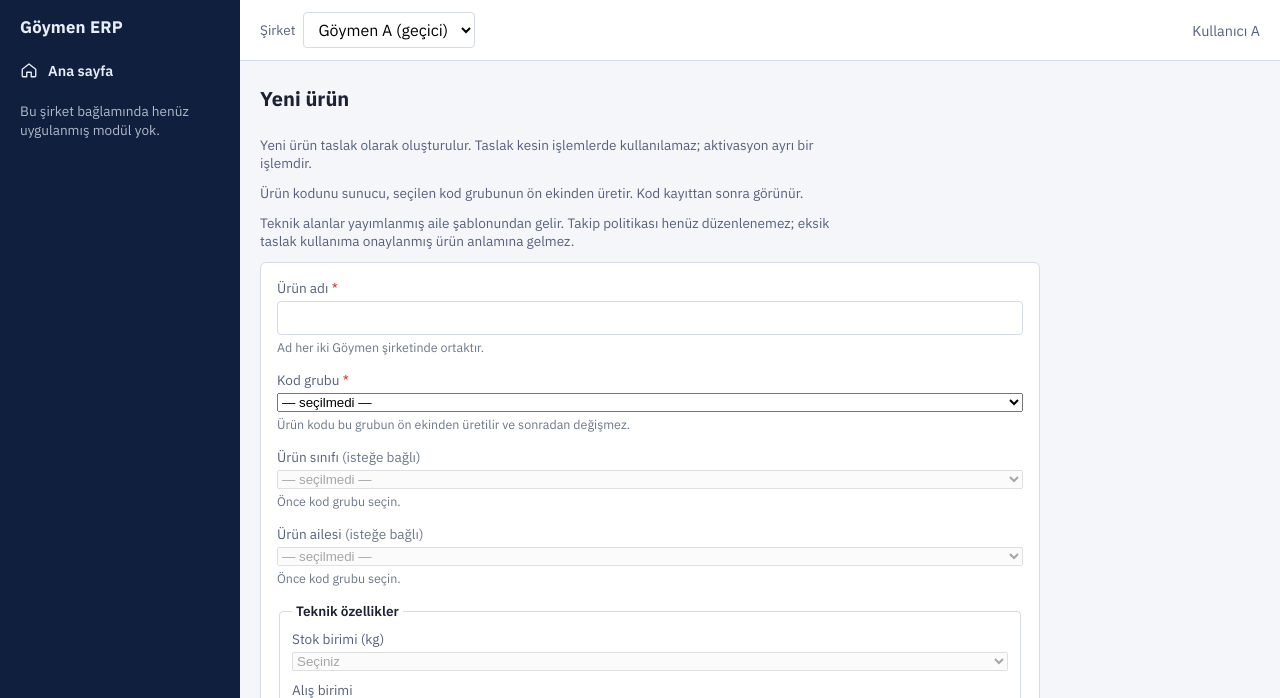
Test: validation › maps a server field code to Turkish and keeps the user input
This screenshot has width=1280, height=698.
Type "Siyah sac" into the field labelled "Ürün adı *" at (650, 318), box [277,301,1023,335]
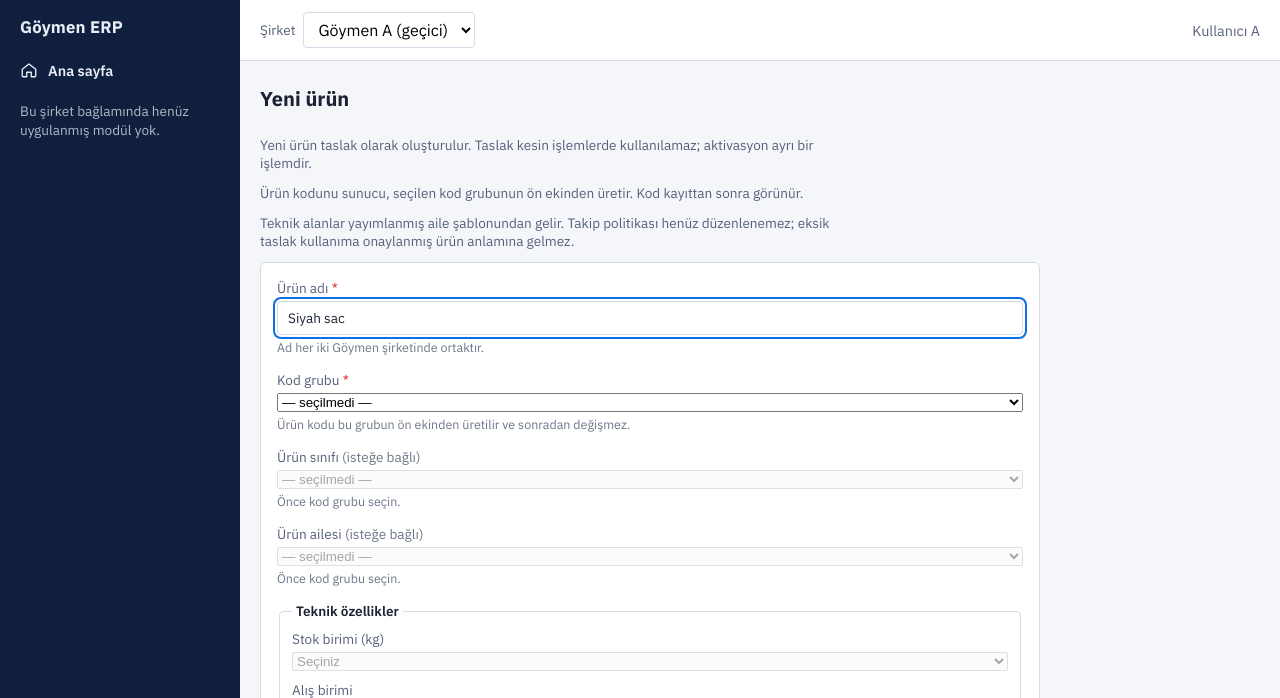
Select "Sac (SAC)" in the dropdown labelled "Kod grubu *" at (650, 402), box [277,393,1023,412]
(page scrolled)
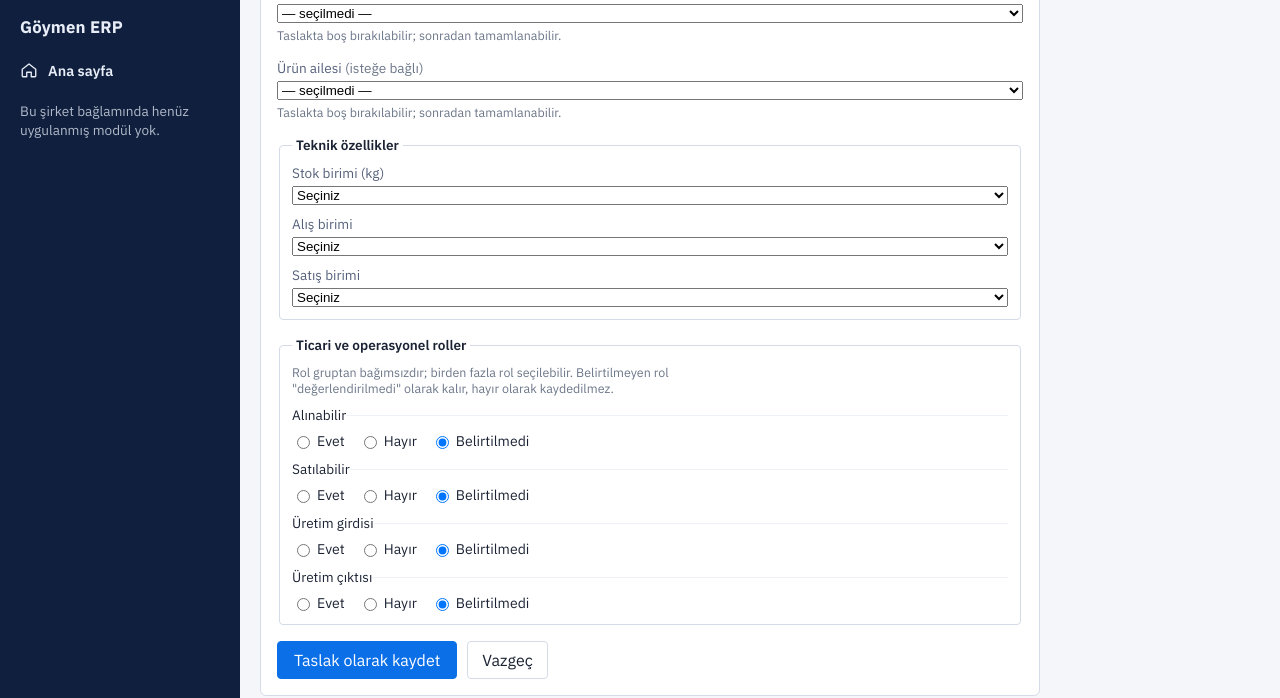
Click the button "Taslak olarak kaydet" at (367, 660), box [277,641,457,679]
(page scrolled)
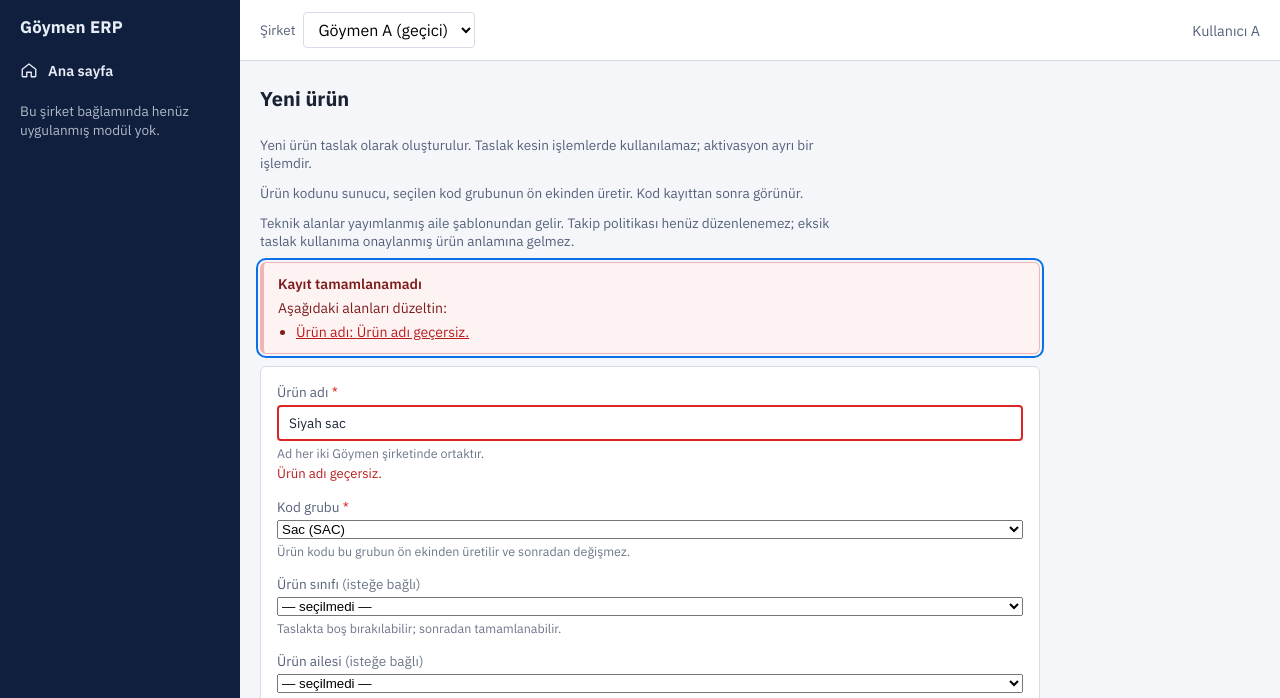
Result: the text "Ürün adı geçersiz." is shown at [277,465,382,482]
